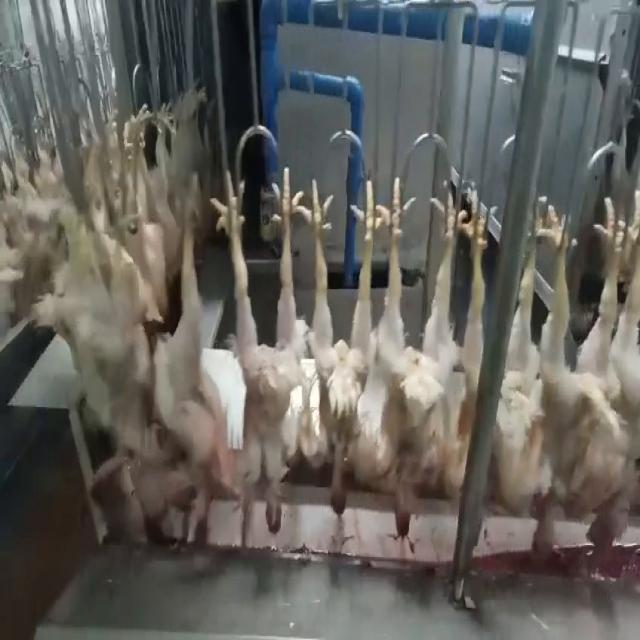chicken: (362, 177, 468, 538), (120, 164, 224, 531), (226, 171, 321, 537), (502, 186, 584, 563), (310, 178, 386, 525), (588, 191, 639, 559), (436, 187, 493, 514), (54, 161, 115, 414)
